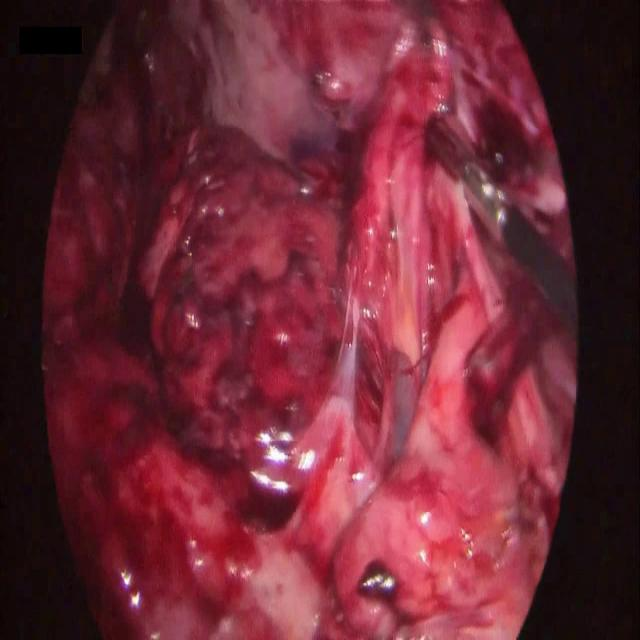surgical-area: (40, 0, 583, 639)
